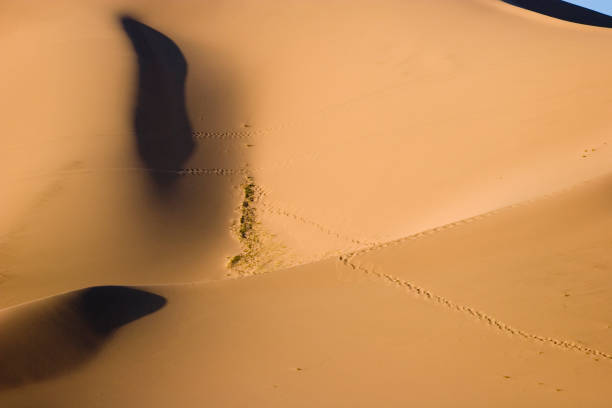animal_foot_print: (339, 256, 611, 359), (345, 180, 590, 257), (177, 168, 245, 176)
